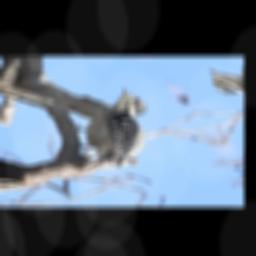Woodpecker: (30, 85, 188, 175)
